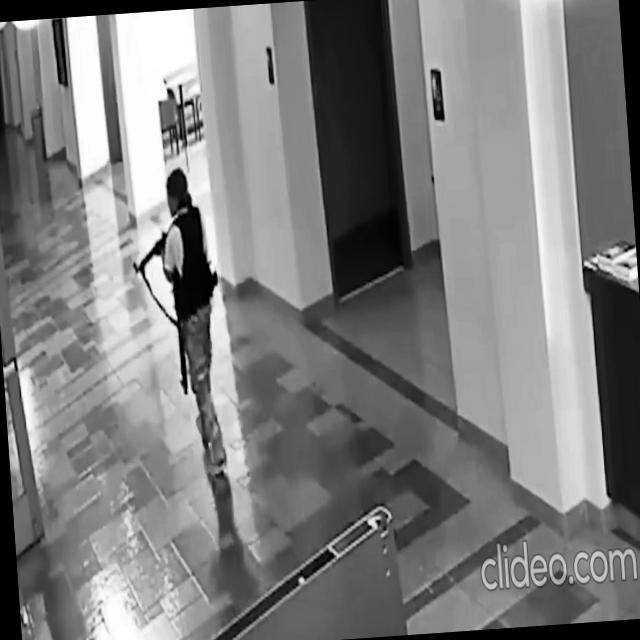gun: (128, 220, 174, 279), (170, 261, 189, 398)
person with a gun: (125, 165, 230, 489)
